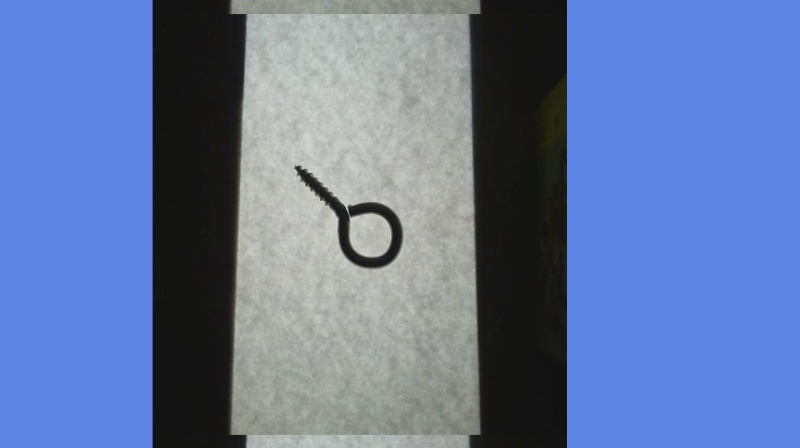O001: (292, 163, 405, 275)
